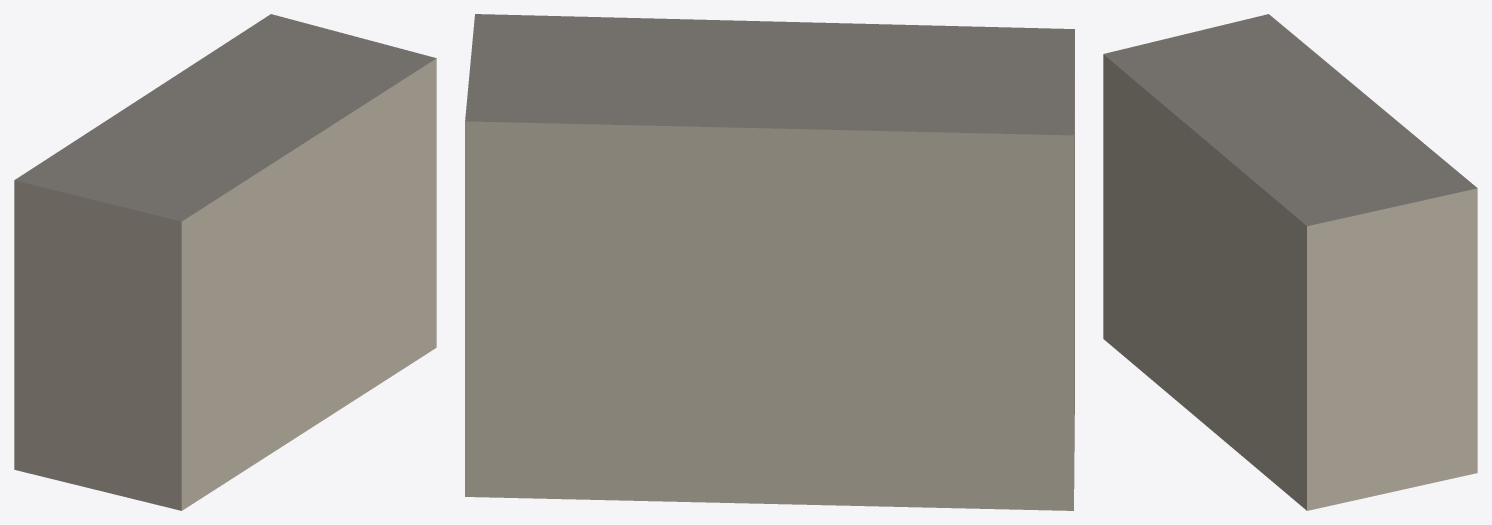
The picture shows the model from 3 angles, left to right: view 1: azimuth 30°, elevation 25°; view 2: azimuth 150°, elevation 25°; view 3: azimuth 270°, elevation 25°; orthographic projection. The views are drawn at different scales.
Visible parts, largest first — view 1: HP-w505653365; view 2: HP-w505653365; view 3: HP-w505653365.
Boxes of the visible parts, x1,y1,x2,y2 form: HP-w505653365: (14,14,436,510); HP-w505653365: (465,14,1074,510); HP-w505653365: (1103,14,1477,510).
Bounding box in the file's own units: 28.78 × 18 × 21.47.
